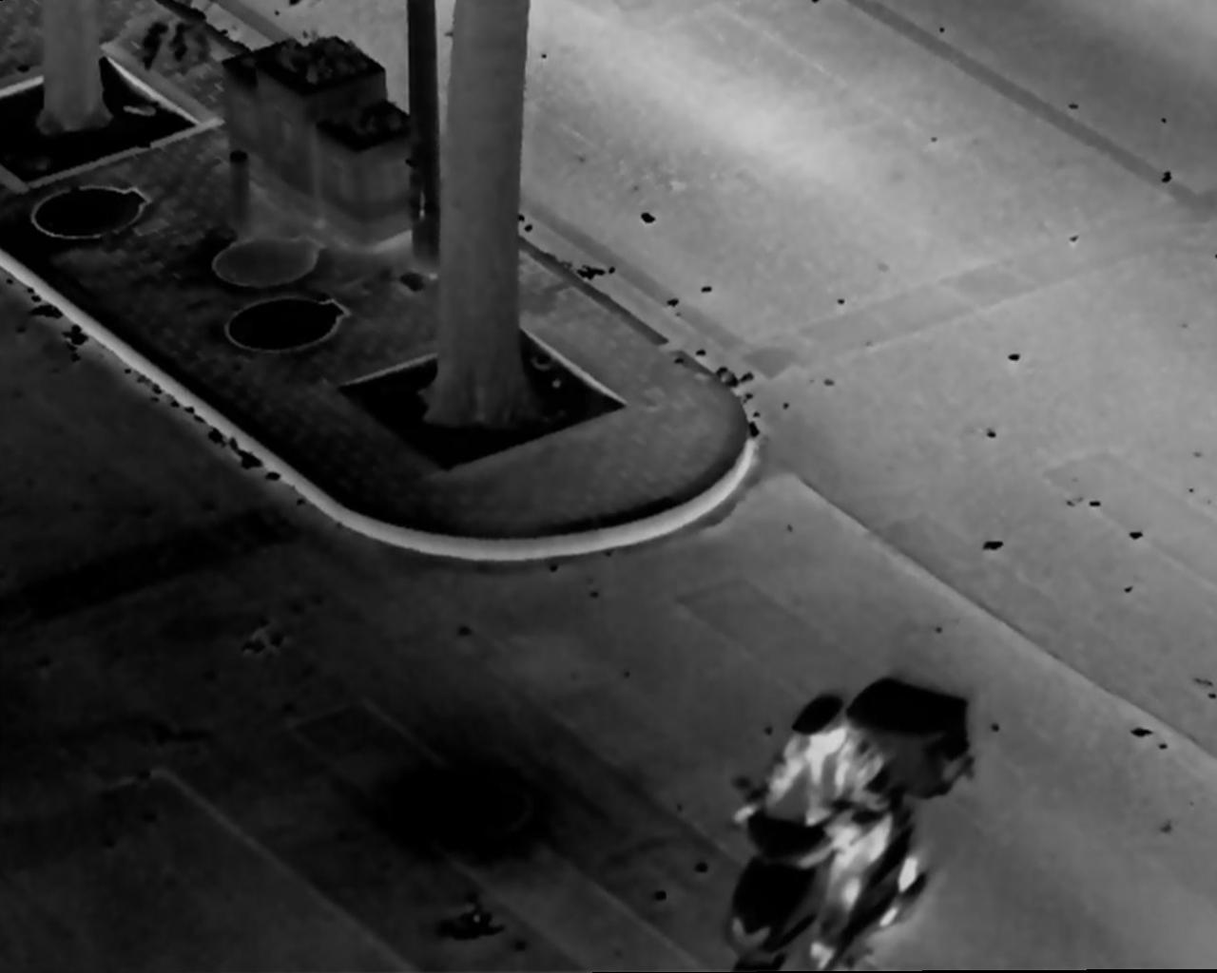person: (736, 693, 921, 957)
